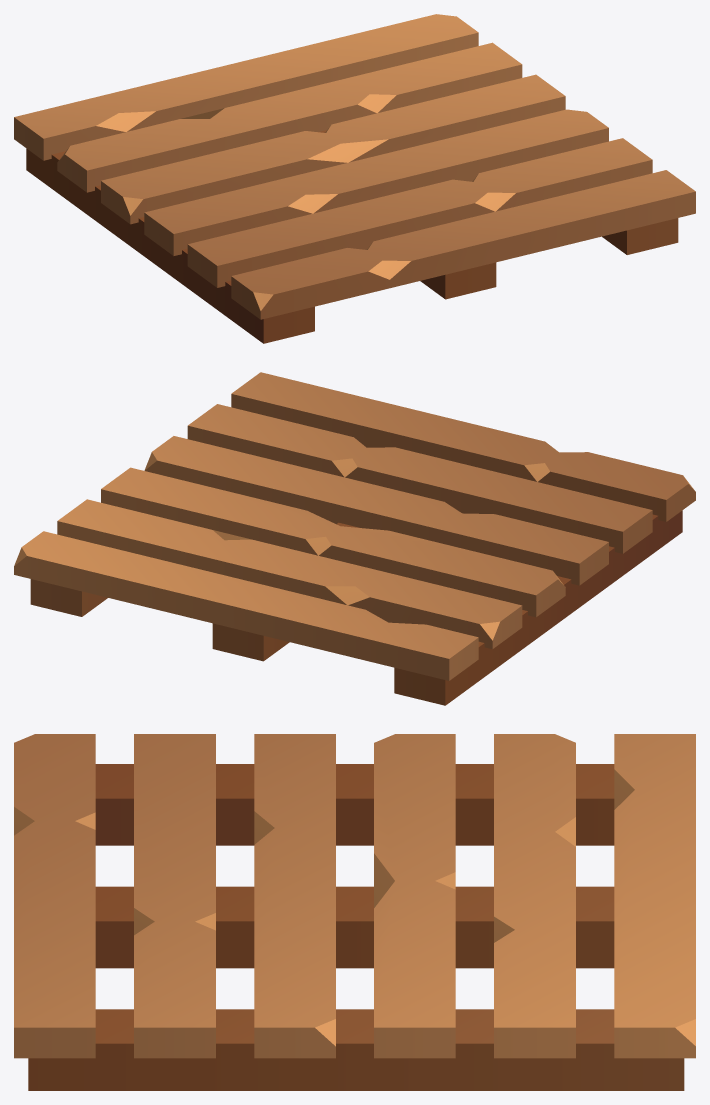
File: wooden_pallet.fbx
3 renders of one model, top to bottom at view 1: azimuth 30°, elevation 25°; view 2: azimuth 150°, elevation 25°; view 3: azimuth 270°, elevation 25°, orthographic. The views are drawn at different scales.
Parts seen in each view (by area): view 1: wooden_pallet; view 2: wooden_pallet; view 3: wooden_pallet.
Boxes of the visible parts, x1,y1,x2,y2 form: wooden_pallet: (14, 14, 695, 343); wooden_pallet: (14, 372, 695, 705); wooden_pallet: (14, 734, 695, 1090).
Size of the model in its own units: 138 by 15.7 by 135.
Materials: 1 (1 with a texture image).
